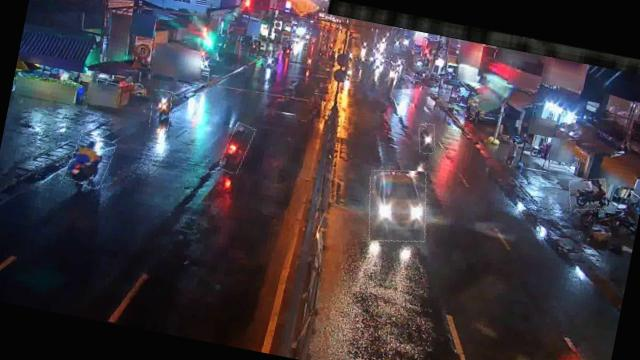Bike: (66, 130, 116, 190), (220, 120, 253, 174), (566, 174, 610, 214), (148, 88, 174, 130), (416, 122, 438, 155), (308, 93, 324, 119)
Car: (360, 163, 434, 248)
